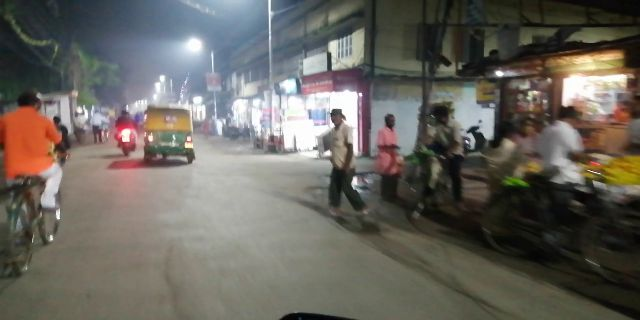Autorickshaw: (141, 102, 198, 161)
Cycle: (9, 92, 67, 279)
Motorbike: (111, 105, 137, 160)
